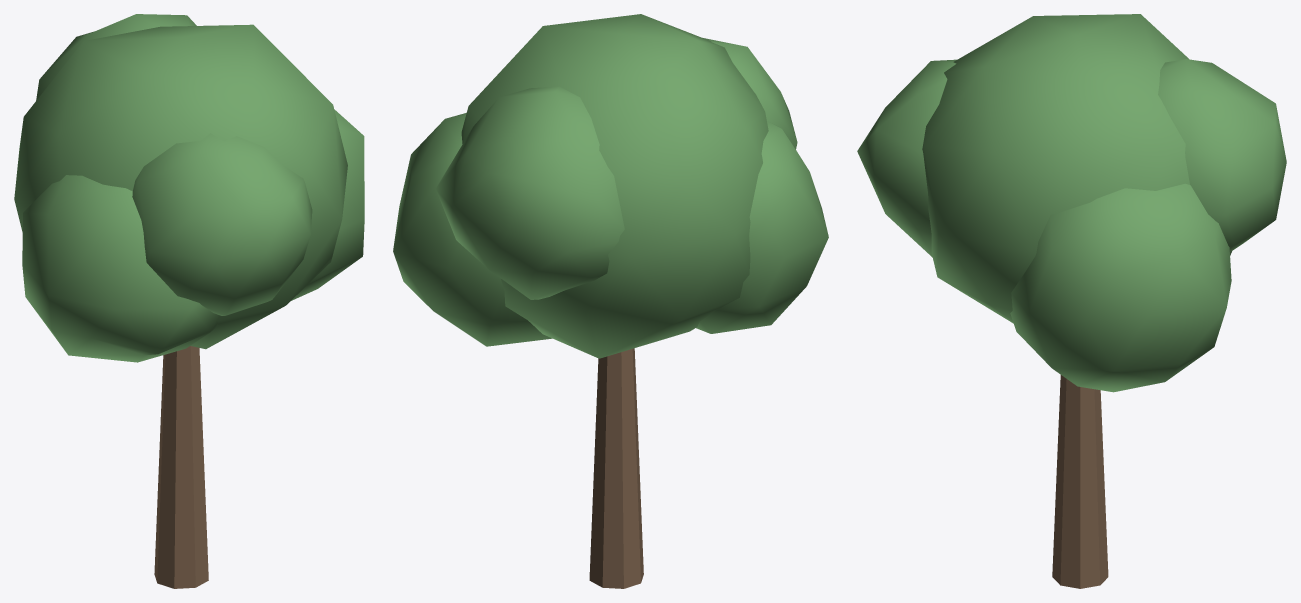
File: tree.glb
3 views of the same model, side by side, from view 1: azimuth 30°, elevation 25°; view 2: azimuth 150°, elevation 25°; view 3: azimuth 270°, elevation 25° (orthographic).
Visible parts, largest first — view 1: Tree; view 2: Tree; view 3: Tree.
Boxes of the visible parts, left/top/right/bottom form: Tree: left=14, top=14, right=364, bottom=588; Tree: left=393, top=14, right=828, bottom=588; Tree: left=857, top=14, right=1286, bottom=588.
Size of the model in its own units: 3.24 by 4.67 by 3.36.
